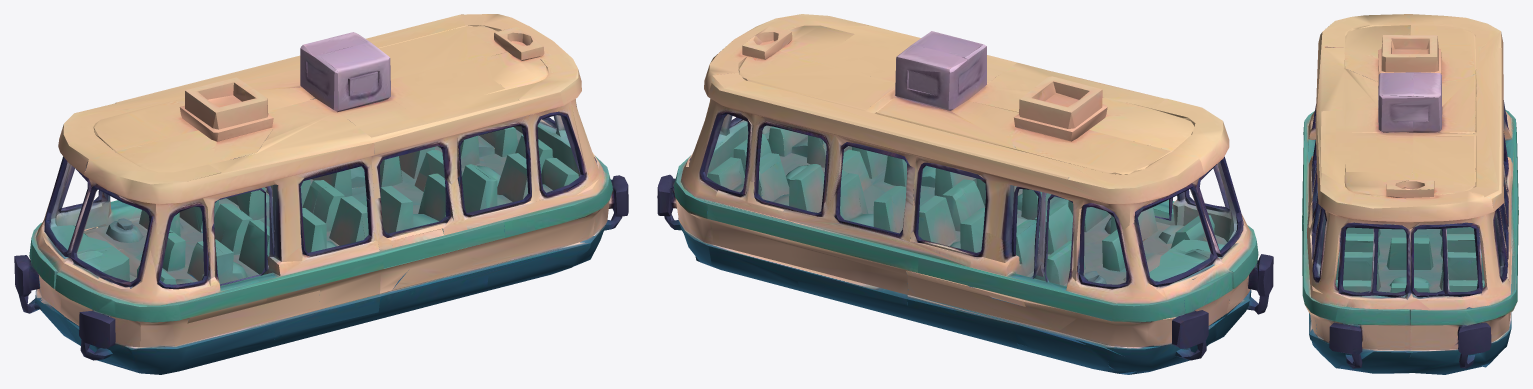
The model's file is M-13_04_waterbus.glb.
3 renders of one model, left to right at view 1: azimuth 30°, elevation 25°; view 2: azimuth 150°, elevation 25°; view 3: azimuth 270°, elevation 25°, orthographic. The views are drawn at different scales.
Visible parts, largest first — view 1: M-13_04_waterbus; view 2: M-13_04_waterbus; view 3: M-13_04_waterbus.
Part boxes in pixels (box(x1,y1,x2,y2)): M-13_04_waterbus: box(14, 14, 628, 374); M-13_04_waterbus: box(657, 14, 1273, 374); M-13_04_waterbus: box(1302, 14, 1518, 374).
Bounding box in the file's own units: 9.04 × 3.73 × 3.59.
Materials: 1 (1 with a texture image).
